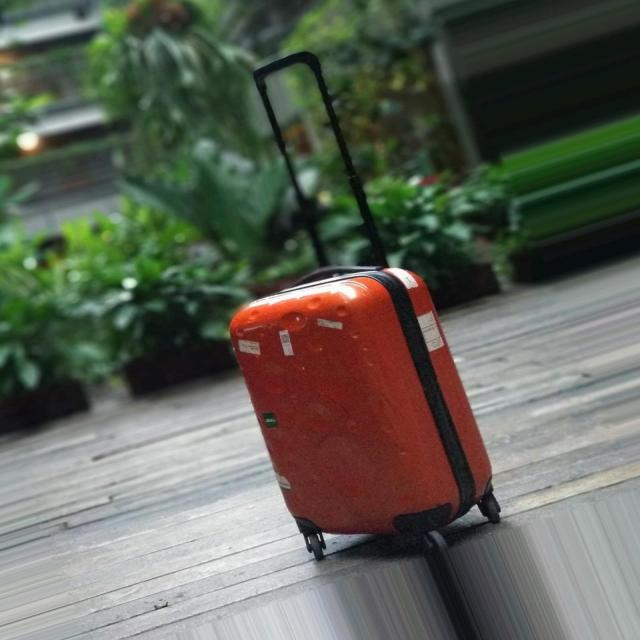Bag: (182, 43, 522, 563)
Handle: (246, 47, 406, 282)
